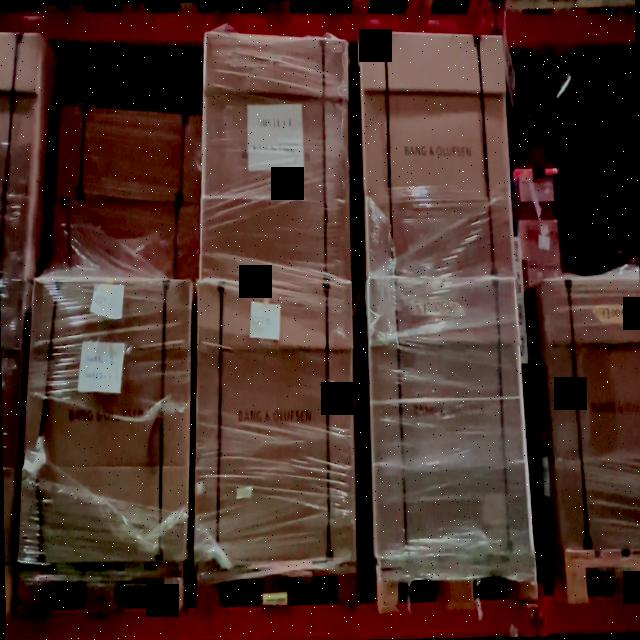box: (17, 281, 191, 559), (368, 278, 534, 556), (194, 280, 357, 562), (361, 30, 514, 276), (200, 33, 351, 278)
